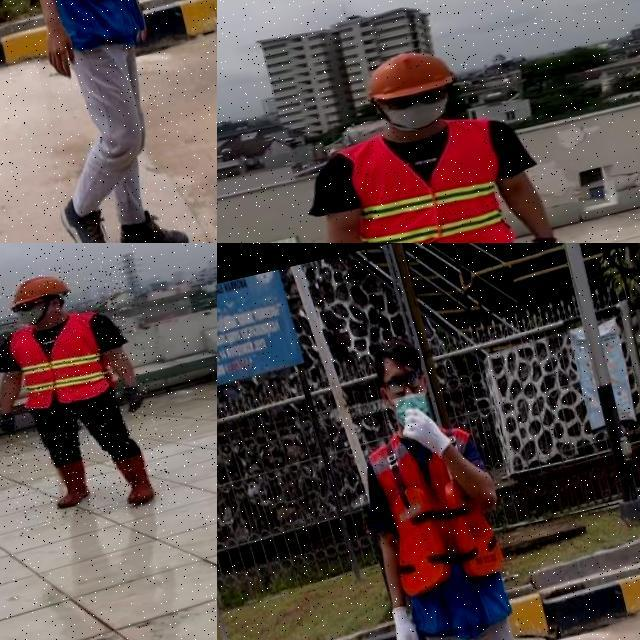boots: (0, 251, 179, 542), (53, 186, 128, 243), (112, 201, 197, 243), (110, 449, 160, 508), (46, 459, 94, 512)
helmet: (358, 41, 460, 106), (5, 268, 72, 310)
vest: (360, 414, 525, 640), (338, 115, 515, 243), (8, 310, 112, 414), (3, 0, 163, 64)
